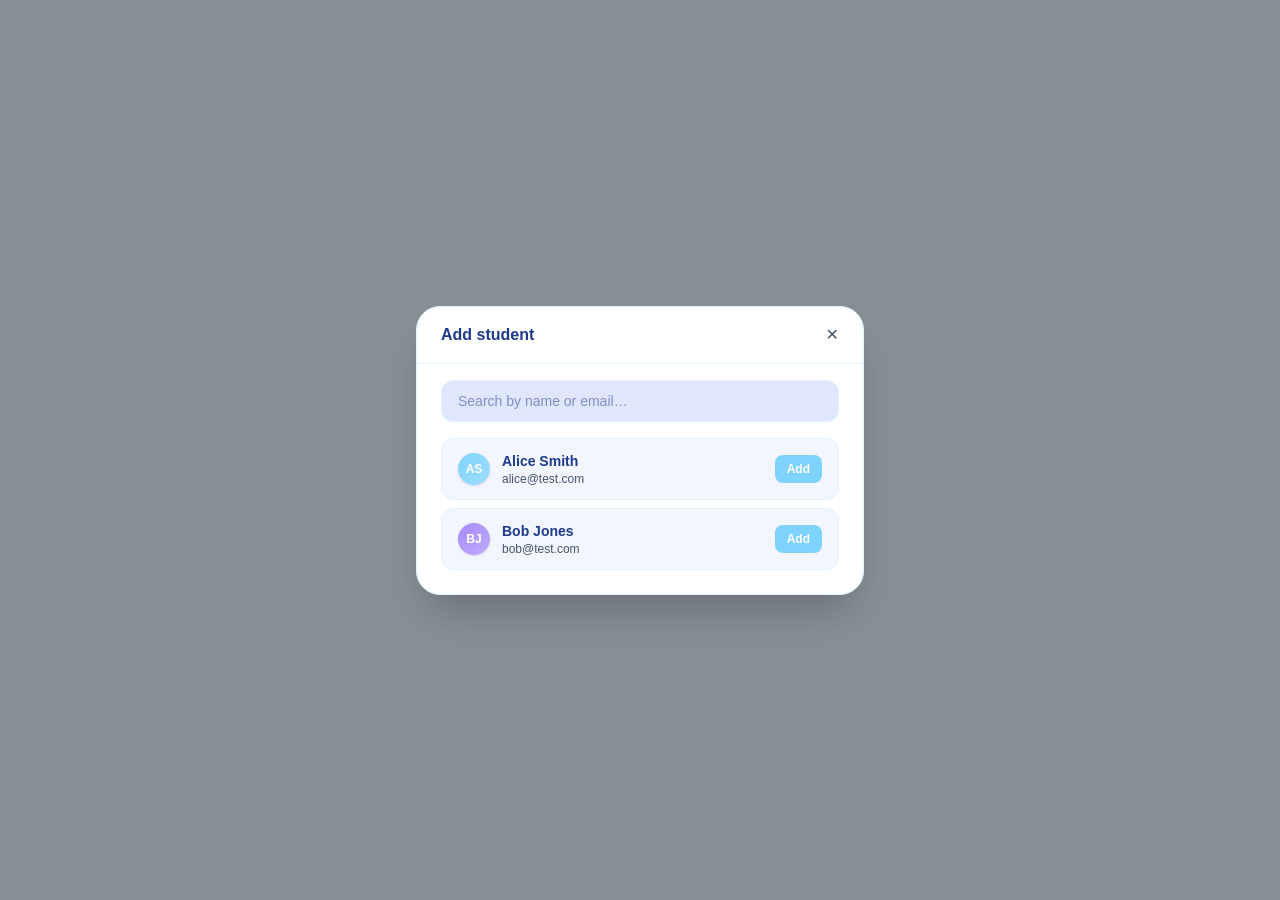
Scenario: AddStudentModal › filters users by search query
Expected: the text "alice@test.com" is shown, [502, 470, 584, 486]
Type "alice" into the field with placeholder "Search by name or email…".
click(640, 400); type("alice")  # box [441, 380, 839, 422]
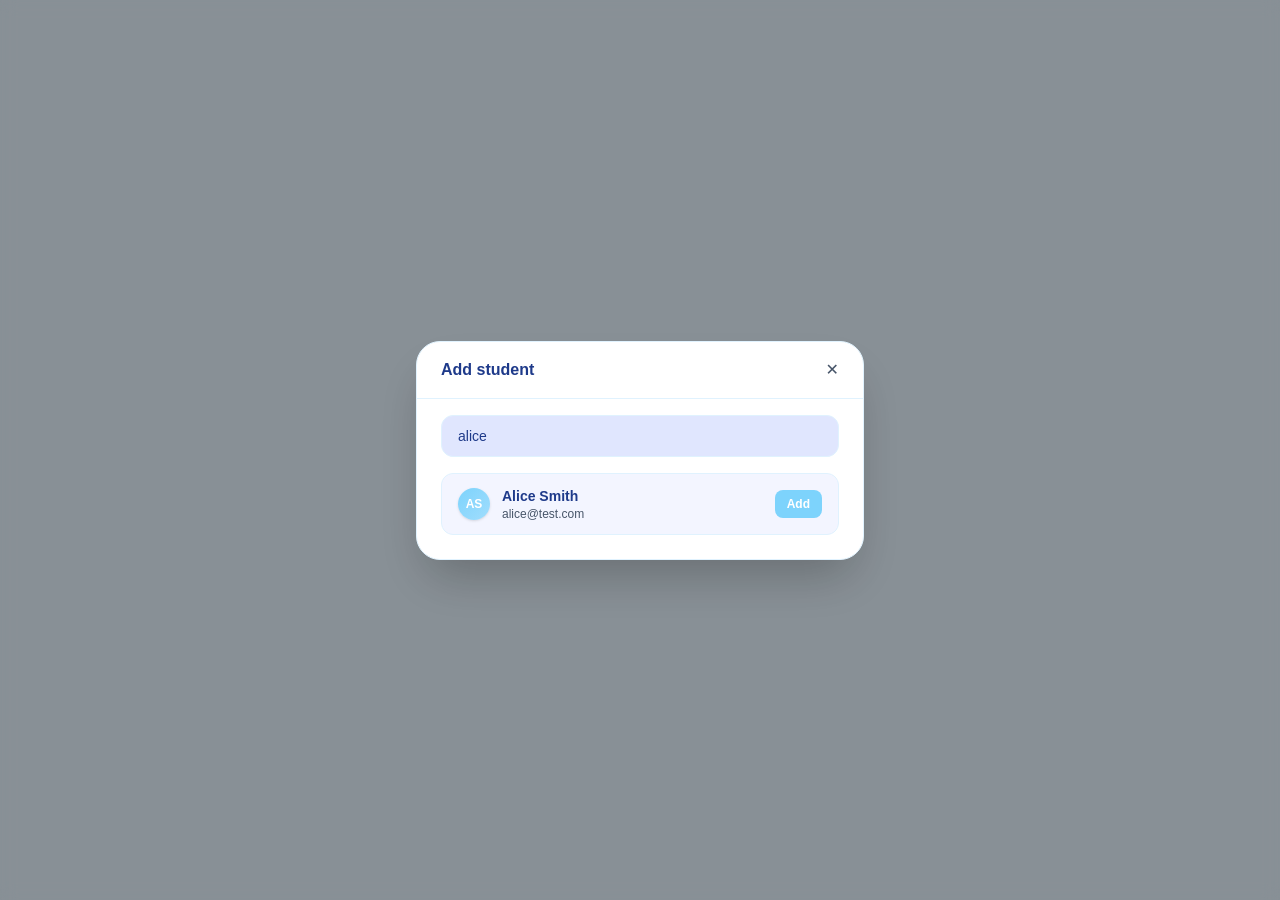
Expected: the text "alice@test.com" is shown, [502, 506, 584, 522]
Expected: the text "bob@test.com" is gone
